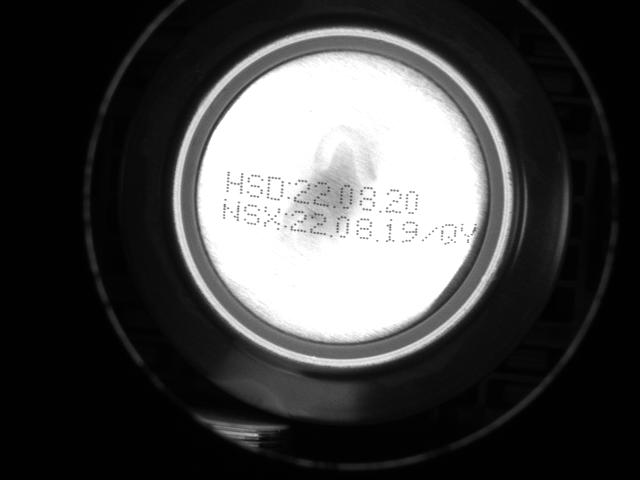.: (328, 220, 335, 240), (331, 192, 338, 211), (373, 227, 381, 243), (377, 198, 384, 215)
/: (420, 224, 438, 245)
0: (402, 187, 421, 216), (339, 181, 354, 212), (334, 214, 351, 239)
1: (384, 216, 397, 244)
2: (384, 184, 404, 215), (292, 175, 311, 206), (312, 178, 331, 209), (308, 210, 328, 238), (289, 208, 308, 235)
8: (358, 183, 378, 213), (354, 216, 373, 243)
9: (400, 220, 419, 245)
:: (284, 179, 293, 202), (282, 209, 289, 231)
D: (264, 173, 284, 203)
H: (224, 167, 245, 197)
N: (222, 195, 241, 224)
Q: (439, 221, 458, 248)
S: (246, 171, 265, 201), (242, 201, 262, 228)
X: (262, 205, 282, 231)
Y: (458, 219, 479, 247)
